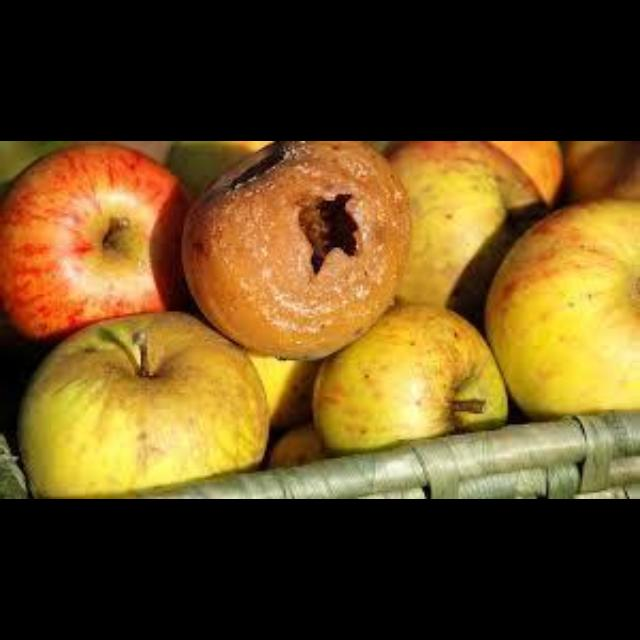apple: (181, 141, 407, 356), (19, 312, 267, 495), (0, 145, 188, 337), (486, 201, 638, 418), (311, 305, 506, 452)
rotten: (181, 141, 407, 356)
